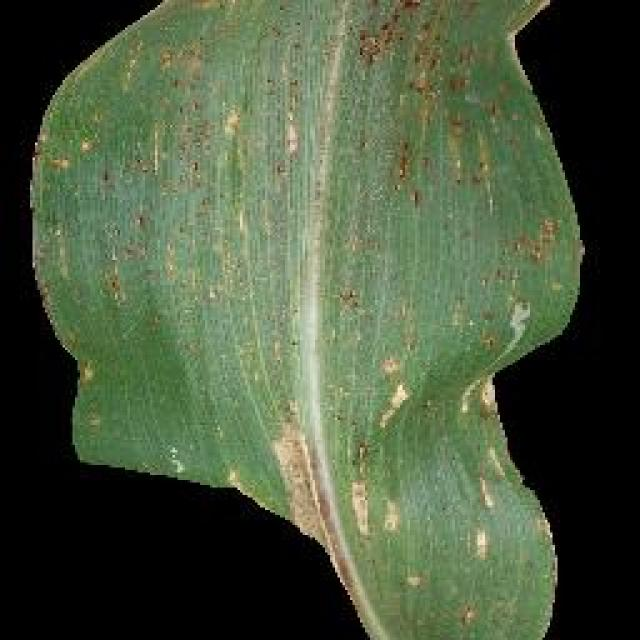Corn Common Rust: (132, 37, 592, 598)
